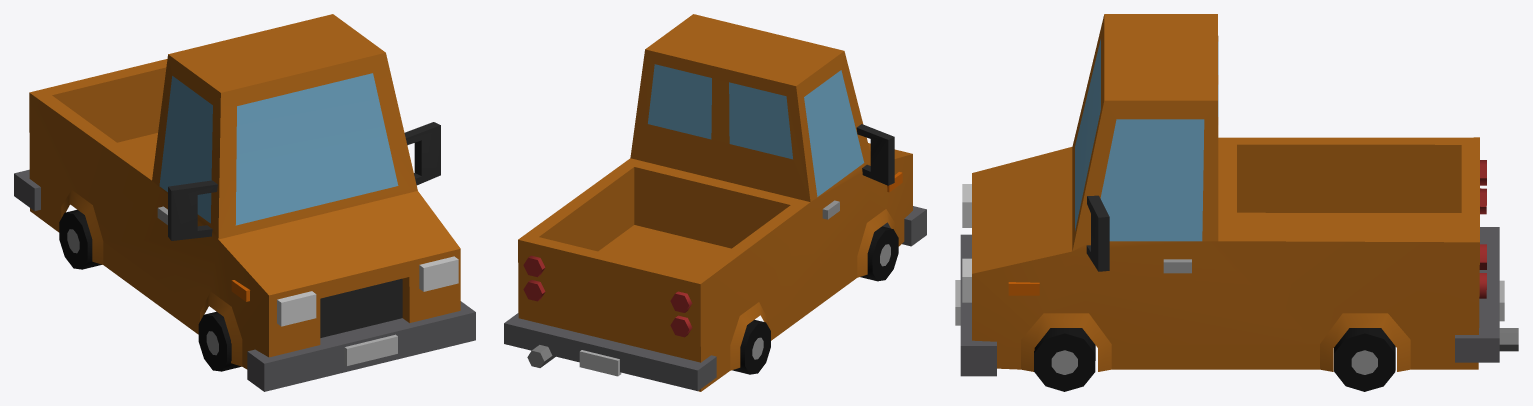
The model's file is Car_09_orange.fbx.
3 views of the same model, side by side, from view 1: azimuth 30°, elevation 25°; view 2: azimuth 150°, elevation 25°; view 3: azimuth 270°, elevation 25° (orthographic). The views are drawn at different scales.
Parts seen in each view (by area): view 1: Car_09_orange; view 2: Car_09_orange; view 3: Car_09_orange.
Part boxes in pixels (x1,y1,x2,y2): Car_09_orange: [14, 14, 475, 391]; Car_09_orange: [504, 14, 926, 391]; Car_09_orange: [955, 14, 1518, 391].
Size of the model in its own units: 65.22 by 59.58 by 110.
